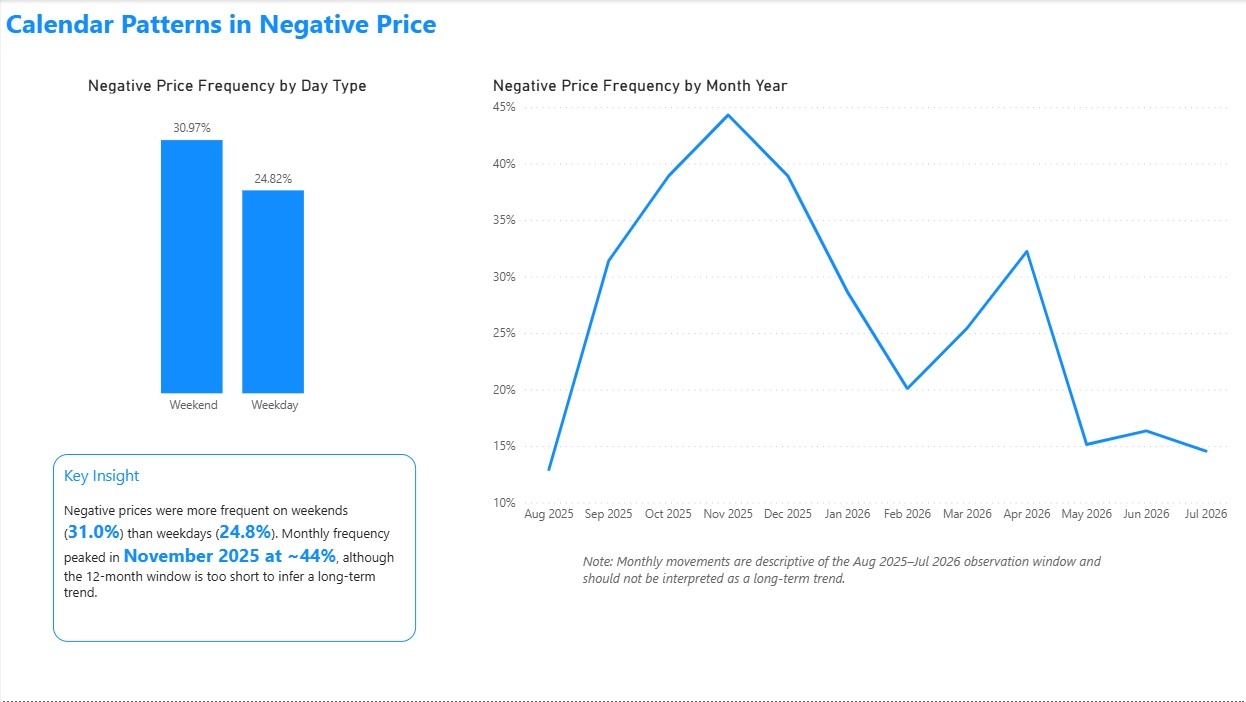

What the dashboard file says about the page in this screenshot:
{"tool":"powerbi","page":{"name":"Calendar Patterns","canvas":[1280,720],"ordinal":3},"visuals":[{"type":"columnChart","fields":{"Category":["final_market_dataset.Day Type"],"Y":["final_market_dataset.Negative Price Frequency"]},"box":[84.2,77.4,310.6,357],"z":0},{"type":"lineChart","fields":{"Category":["final_market_dataset.Month Year"],"Y":["final_market_dataset.Negative Price Frequency"]},"box":[500.2,77.4,768.2,469.2],"z":1000},{"type":"textbox","box":[0,0,1280,50.3],"z":2000},{"type":"textbox","box":[593.1,563.1,581.5,64.8],"z":3000},{"type":"textbox","box":[53.2,466.3,373.5,192.5],"z":4000}]}

Visuals, with their boxes in screenshot pixels (x1, y1, x2, y2), scaled from the page's 1280x720 canvas onto the 1246x702 screenshot:
columnChart - final_market_dataset.Day Type x final_market_dataset.Negative Price Frequency: {"left": 82, "top": 75, "right": 384, "bottom": 424}
lineChart - final_market_dataset.Month Year x final_market_dataset.Negative Price Frequency: {"left": 487, "top": 75, "right": 1235, "bottom": 533}
textbox: {"left": 0, "top": 0, "right": 1245, "bottom": 49}
textbox: {"left": 577, "top": 549, "right": 1143, "bottom": 612}
textbox: {"left": 52, "top": 455, "right": 415, "bottom": 642}
